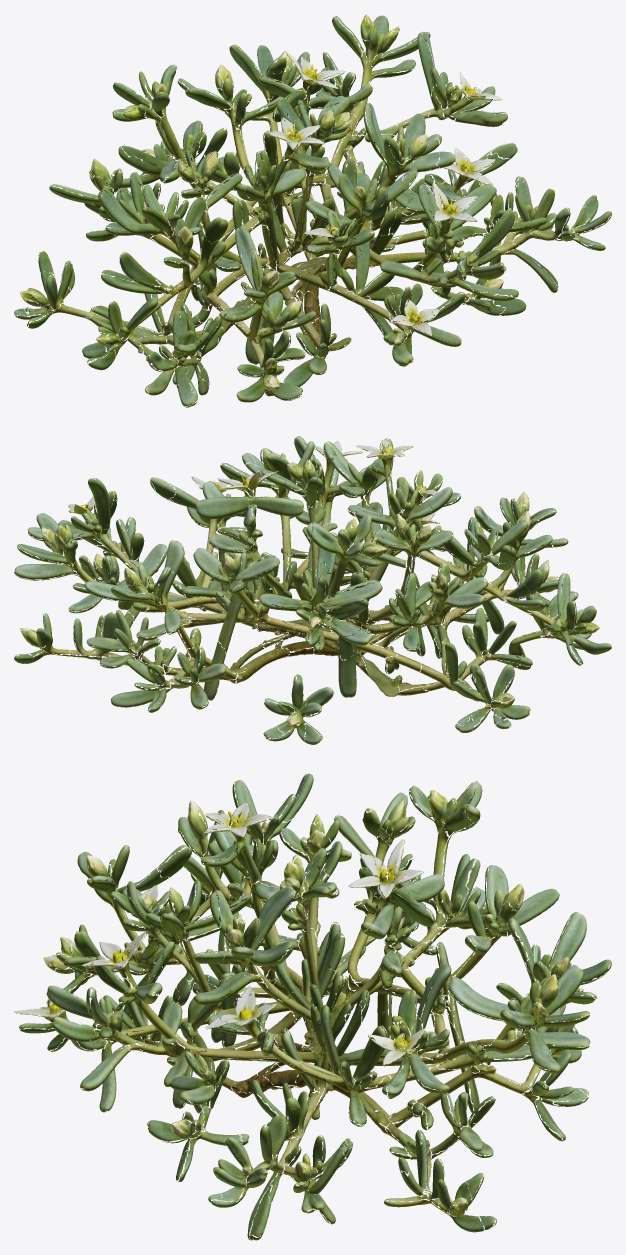
The model's file is malih.glb.
3 views of the same model, one above another, from view 1: azimuth 30°, elevation 25°; view 2: azimuth 150°, elevation 25°; view 3: azimuth 270°, elevation 25° (orthographic). The views are drawn at different scales.
Parts seen in each view (by area): view 1: tripo_node_de0d3fd3-ce82-4aa4-9238-7280460d2d2c; view 2: tripo_node_de0d3fd3-ce82-4aa4-9238-7280460d2d2c; view 3: tripo_node_de0d3fd3-ce82-4aa4-9238-7280460d2d2c.
Part boxes in pixels (left/top/right/bottom): tripo_node_de0d3fd3-ce82-4aa4-9238-7280460d2d2c: left=14, top=14, right=611, bottom=407; tripo_node_de0d3fd3-ce82-4aa4-9238-7280460d2d2c: left=14, top=436, right=611, bottom=744; tripo_node_de0d3fd3-ce82-4aa4-9238-7280460d2d2c: left=14, top=773, right=611, bottom=1240.
Size of the model in its own units: 0.9811 by 0.4241 by 0.8068.
Materials: 1 (1 with a texture image).
